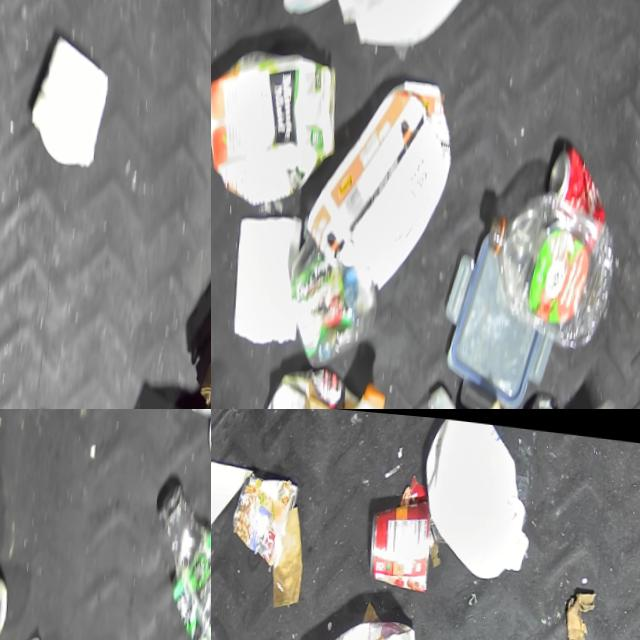can: (364, 487, 438, 596), (545, 132, 614, 219), (0, 551, 14, 640)
milk_jug: (410, 411, 540, 582), (327, 0, 492, 52), (313, 370, 393, 409)
non_white_jug: (211, 33, 346, 210)
plastic_bottle: (482, 178, 622, 346), (143, 467, 211, 640), (379, 368, 469, 409)
